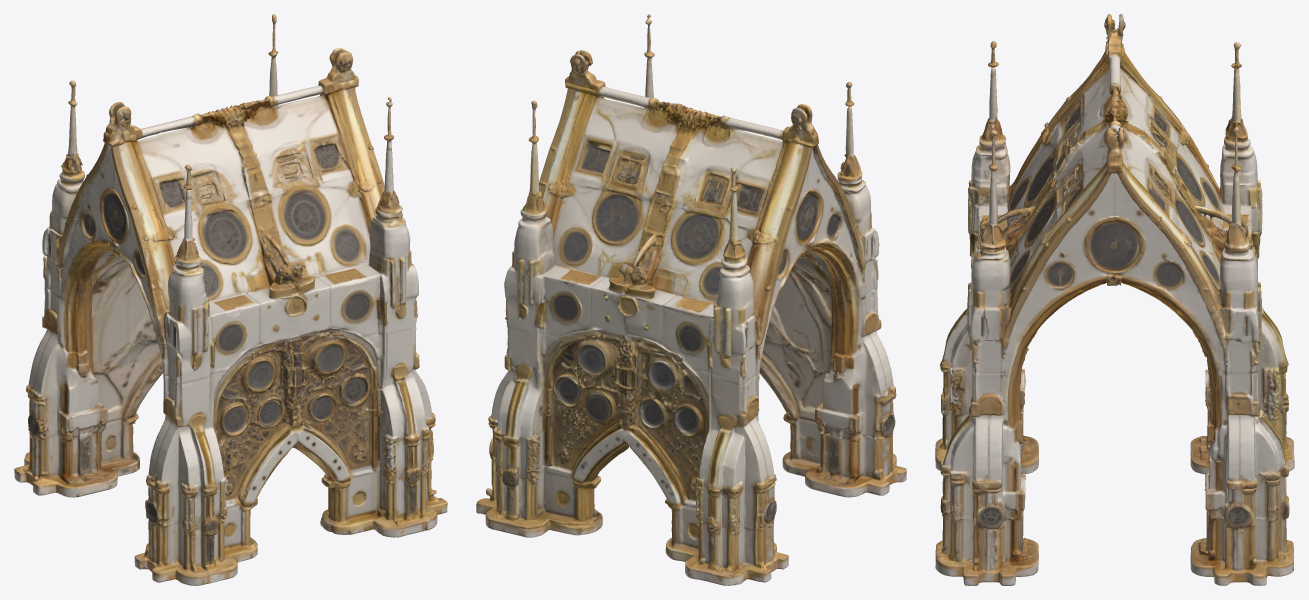
File: Meshy_AI_Arc_en_Rêve_arch__1016100452_texture.fbx
3 renders of one model, left to right at view 1: azimuth 30°, elevation 25°; view 2: azimuth 150°, elevation 25°; view 3: azimuth 270°, elevation 25°, orthographic. The views are drawn at different scales.
Visible parts, largest first — view 1: Mesh_0; view 2: Mesh_0; view 3: Mesh_0.
Part boxes in pixels (x1,y1,x2,y2): Mesh_0: [14, 14, 447, 585]; Mesh_0: [476, 14, 906, 585]; Mesh_0: [935, 14, 1294, 585].
Bounding box in the file's own units: 146 × 200 × 148.
1 material, 1 textured.
